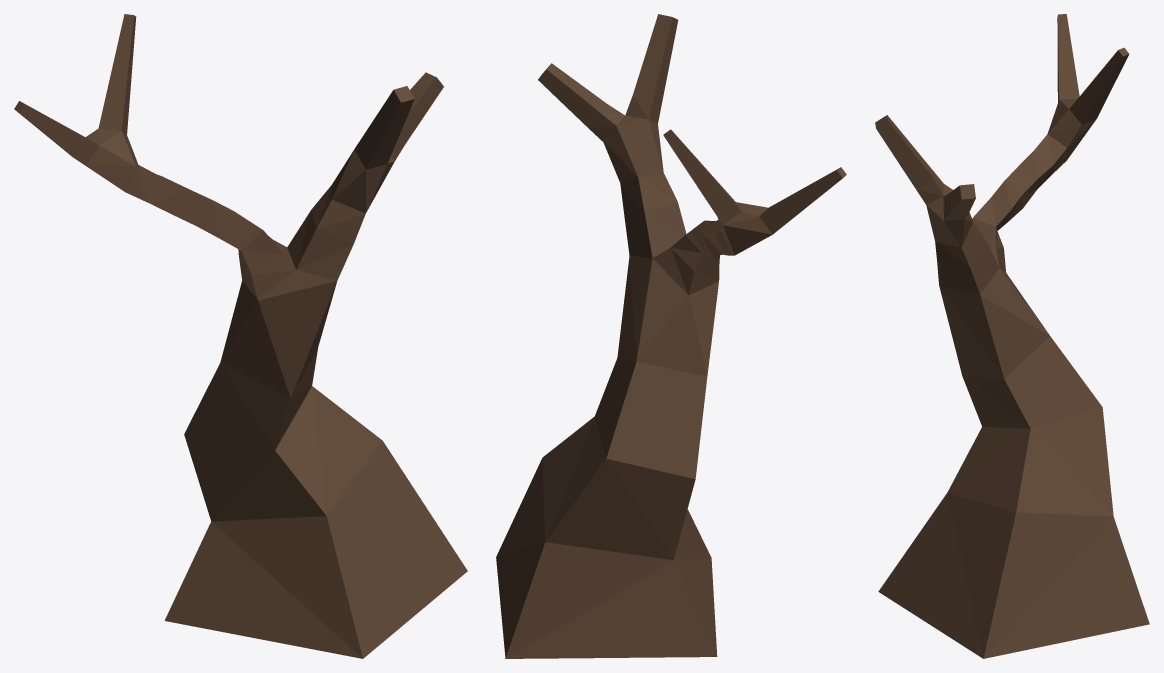
Rendered from tree1-dead.glb.
The picture shows the model from 3 angles, left to right: view 1: azimuth 30°, elevation 25°; view 2: azimuth 150°, elevation 25°; view 3: azimuth 270°, elevation 25°; orthographic projection. The views are drawn at different scales.
Visible parts, largest first — view 1: Trunk.006; view 2: Trunk.006; view 3: Trunk.006.
Part boxes in pixels (x1,y1,x2,y2): Trunk.006: (14, 14, 467, 658); Trunk.006: (496, 14, 846, 658); Trunk.006: (875, 14, 1149, 658).
Size of the model in its own units: 3.12 by 4.21 by 2.06.
